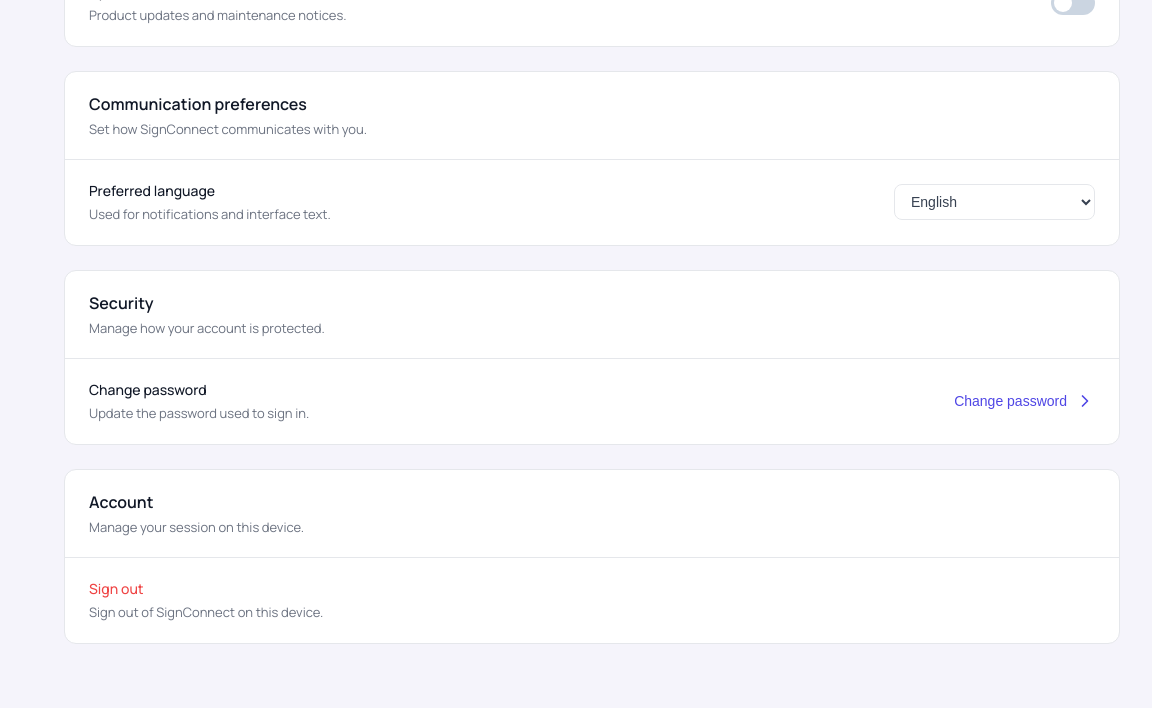
Test: InstitutionSettingsPage › opens the change password modal
This screenshot has width=1152, height=708.
(page scrolled)
Step 1. Click the button "Change password" → (1025, 401), box [954,391,1095,411]
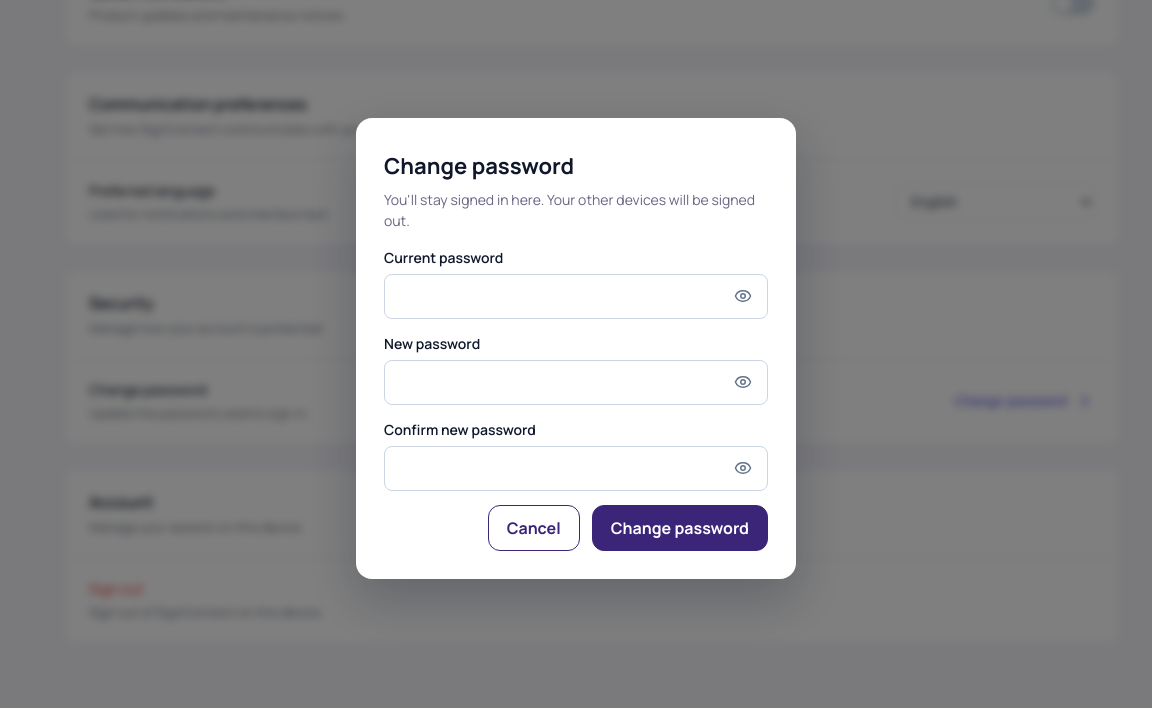
Now the dialog "Change password" is shown, box [356,118,796,578]
